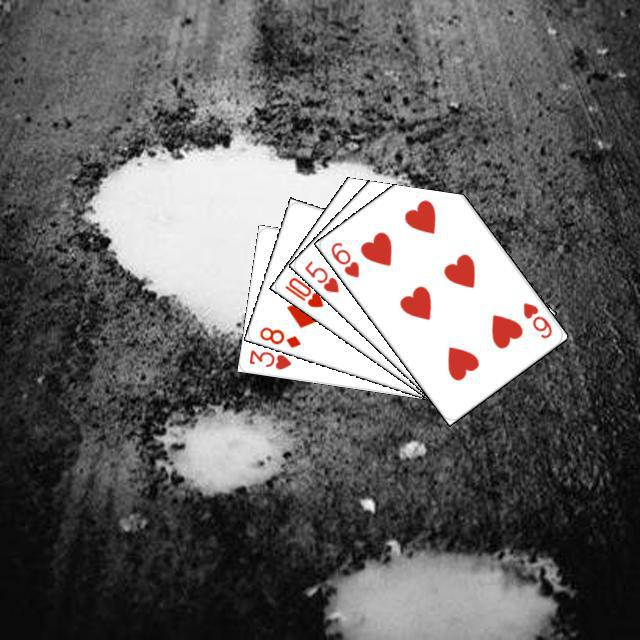10h: (280, 272, 325, 309)
3h: (244, 345, 293, 371)
5h: (299, 256, 341, 294)
6h: (518, 298, 554, 340), (326, 237, 361, 279)
8d: (255, 322, 303, 349)
